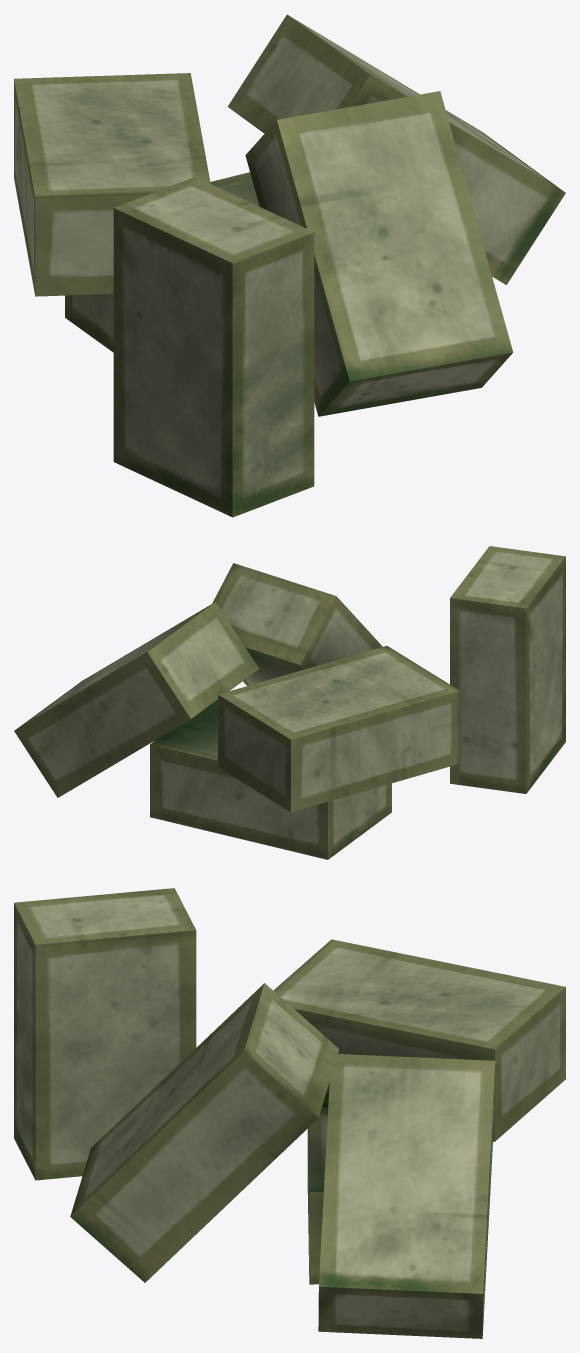
File: Big Bricks.fbx
3 views of the same model, one above another, from view 1: azimuth 30°, elevation 25°; view 2: azimuth 150°, elevation 25°; view 3: azimuth 270°, elevation 25° (orthographic). The views are drawn at different scales.
Visible parts, largest first — view 1: Big Bricks; view 2: Big Bricks; view 3: Big Bricks.
Part boxes in pixels (x1,y1,x2,y2): Big Bricks: (14, 14, 565, 517); Big Bricks: (14, 546, 565, 859); Big Bricks: (14, 888, 565, 1338).
Bounding box in the file's own units: 441 × 201 × 424.
Materials: 1 (1 with a texture image).
